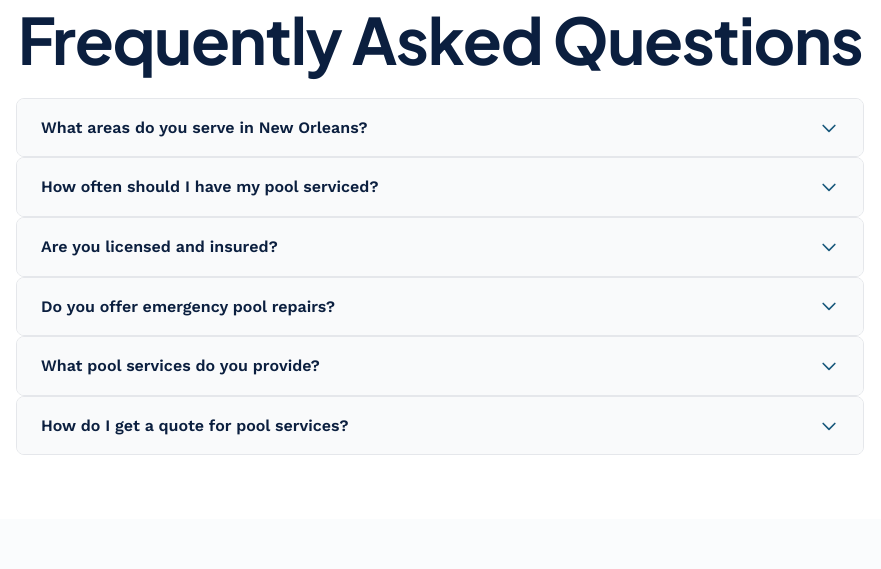
FAQ Component › Clicking question toggles answer visibility › shows answer when question is clicked
The image size is (881, 569).
Expected: the text "we serve greater new orleans" is not shown
# Click question
Click the button "What areas do you serve in New Orleans?".
click(204, 127)  # box [17,99,863,156]
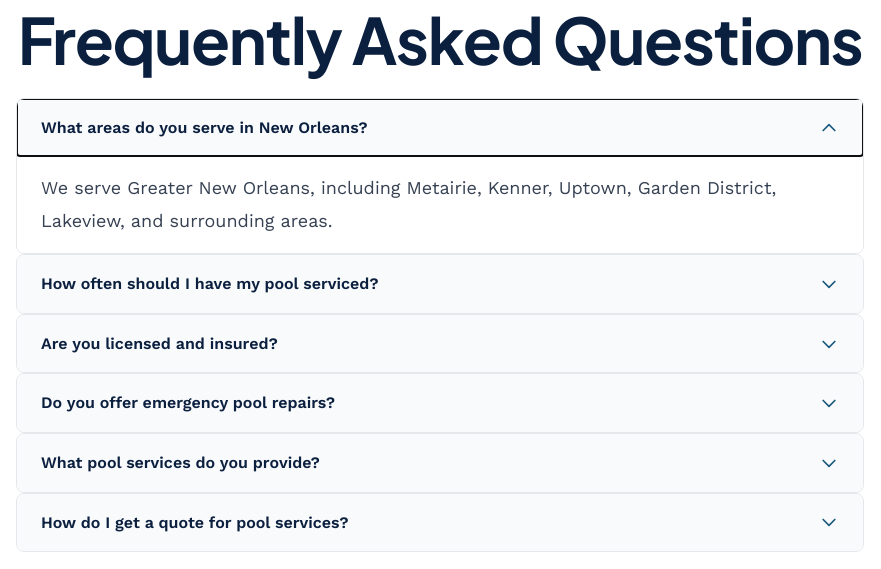
Now the text "We serve Greater New Orleans" is shown, box [41,177,776,231]
